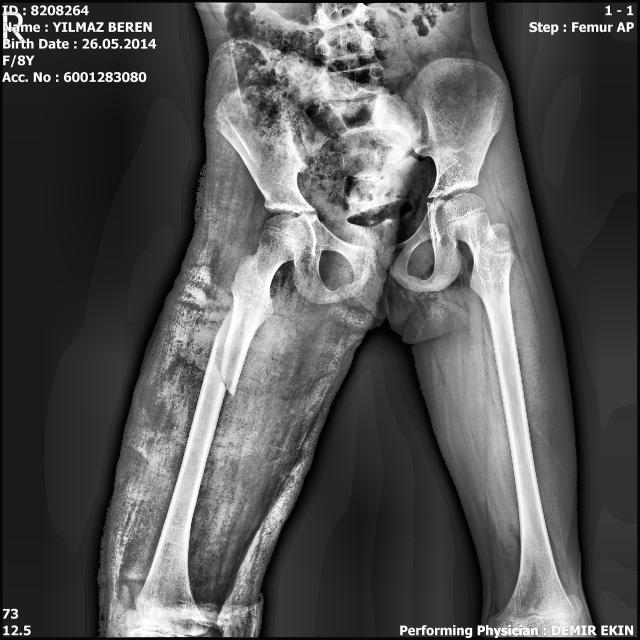Fracture: (203, 303, 242, 412)
